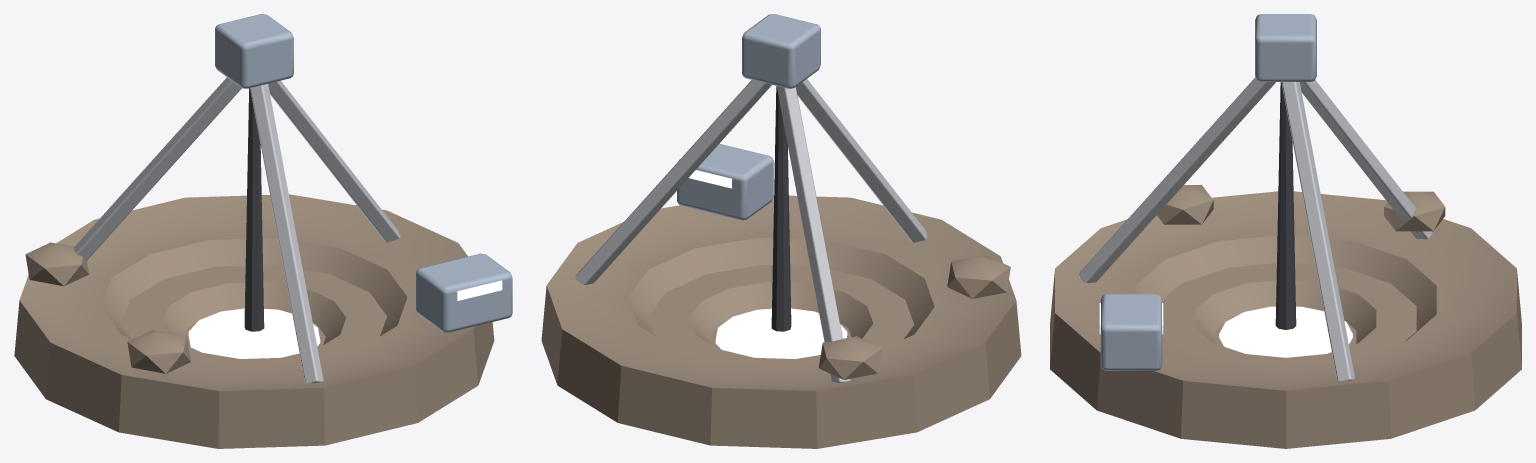
The model's file is excavation.glb.
The picture shows the model from 3 angles, left to right: view 1: azimuth 30°, elevation 25°; view 2: azimuth 150°, elevation 25°; view 3: azimuth 270°, elevation 25°; orthographic projection.
Parts seen in each view (by area): view 1: excavation; view 2: excavation; view 3: excavation.
Boxes of the visible parts, x1=… form: excavation: x1=14, y1=14, x2=512, y2=448; excavation: x1=541, y1=14, x2=1021, y2=448; excavation: x1=1050, y1=14, x2=1521, y2=448.
Size of the model in its own units: 0.94 by 0.69 by 0.9164.
